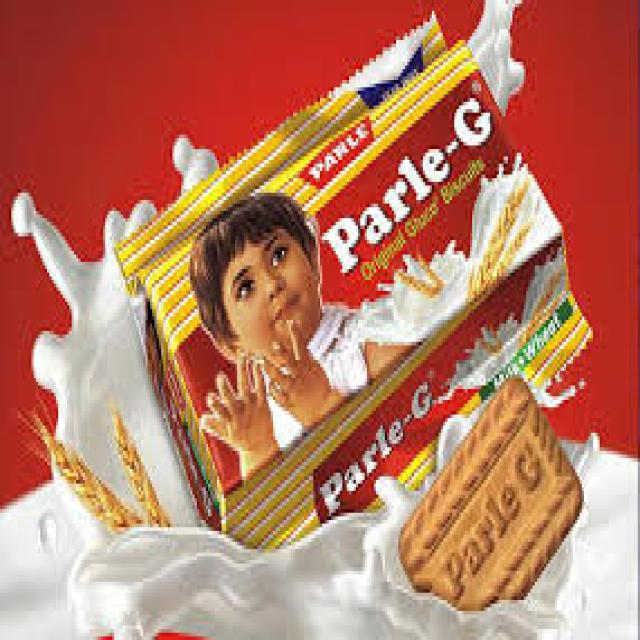parle-g: (115, 11, 594, 605)
